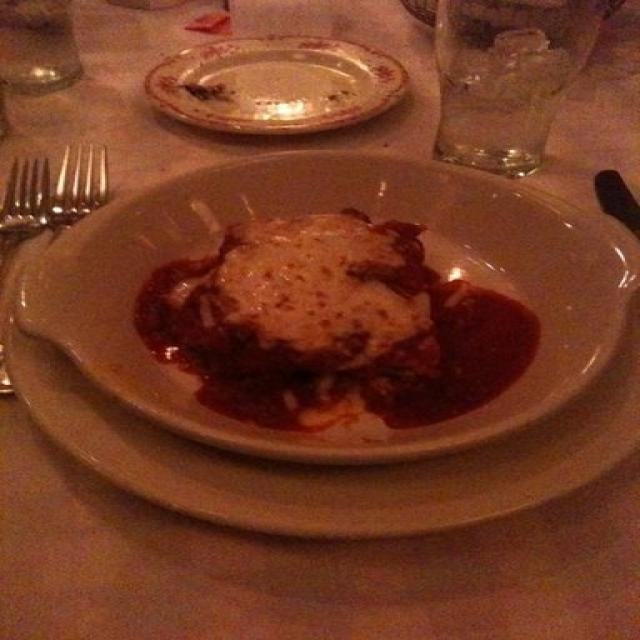Lasagna: (137, 195, 499, 431)
